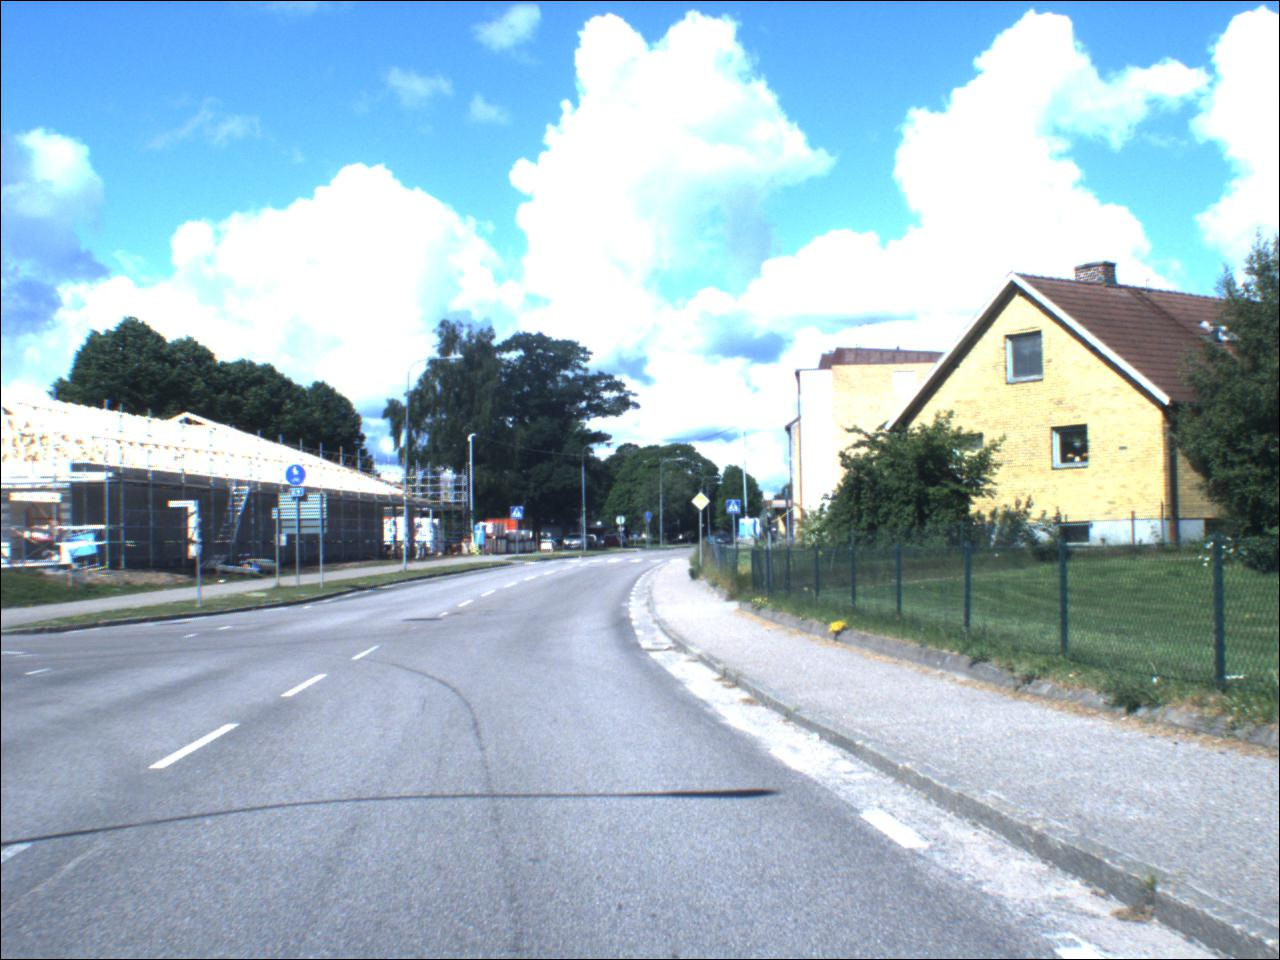PEDESTRIAN_CROSSING: (728, 502, 744, 517), (512, 509, 527, 522)
PRIORITY_ROAD: (693, 494, 713, 514)
